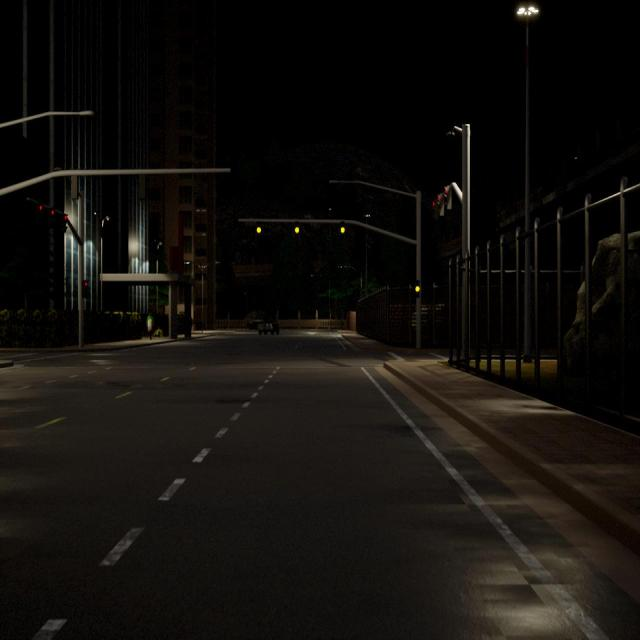Pedestrian: (146, 311, 155, 340)
Vehicle: (258, 319, 280, 336), (244, 318, 265, 331)
traffic_light: (444, 184, 452, 210), (61, 213, 68, 231), (438, 194, 444, 215), (82, 280, 89, 296), (416, 280, 420, 299), (432, 202, 437, 216), (40, 204, 44, 219), (341, 220, 345, 234), (51, 207, 55, 221), (257, 222, 261, 234), (295, 222, 299, 234)
